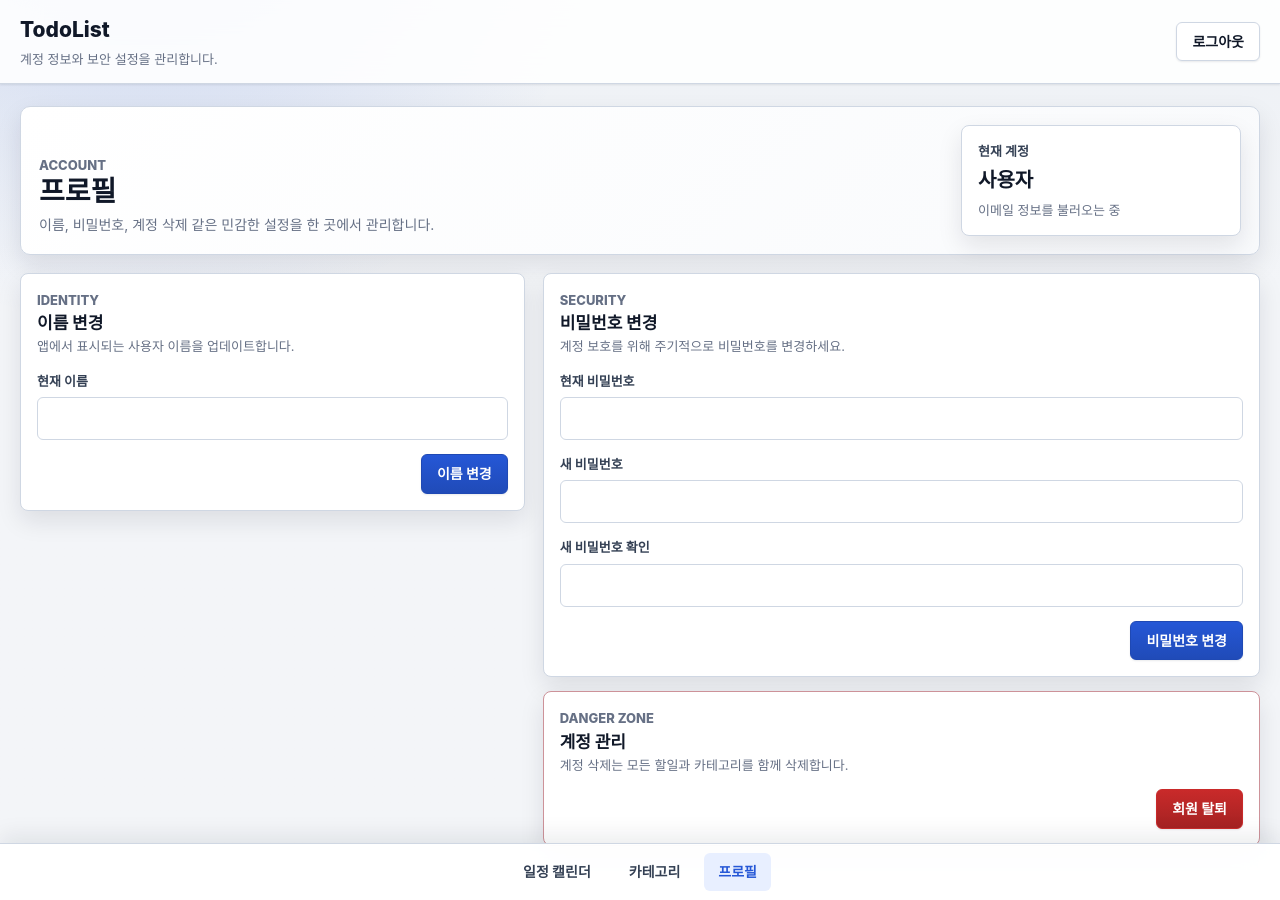
Test: ProfilePage — 비밀번호 변경 › 새 비밀번호 불일치 시 유효성 오류가 표시된다
Type "current123" into the password field labelled "현재 비밀번호" at (901,418), box [560, 397, 1243, 440]
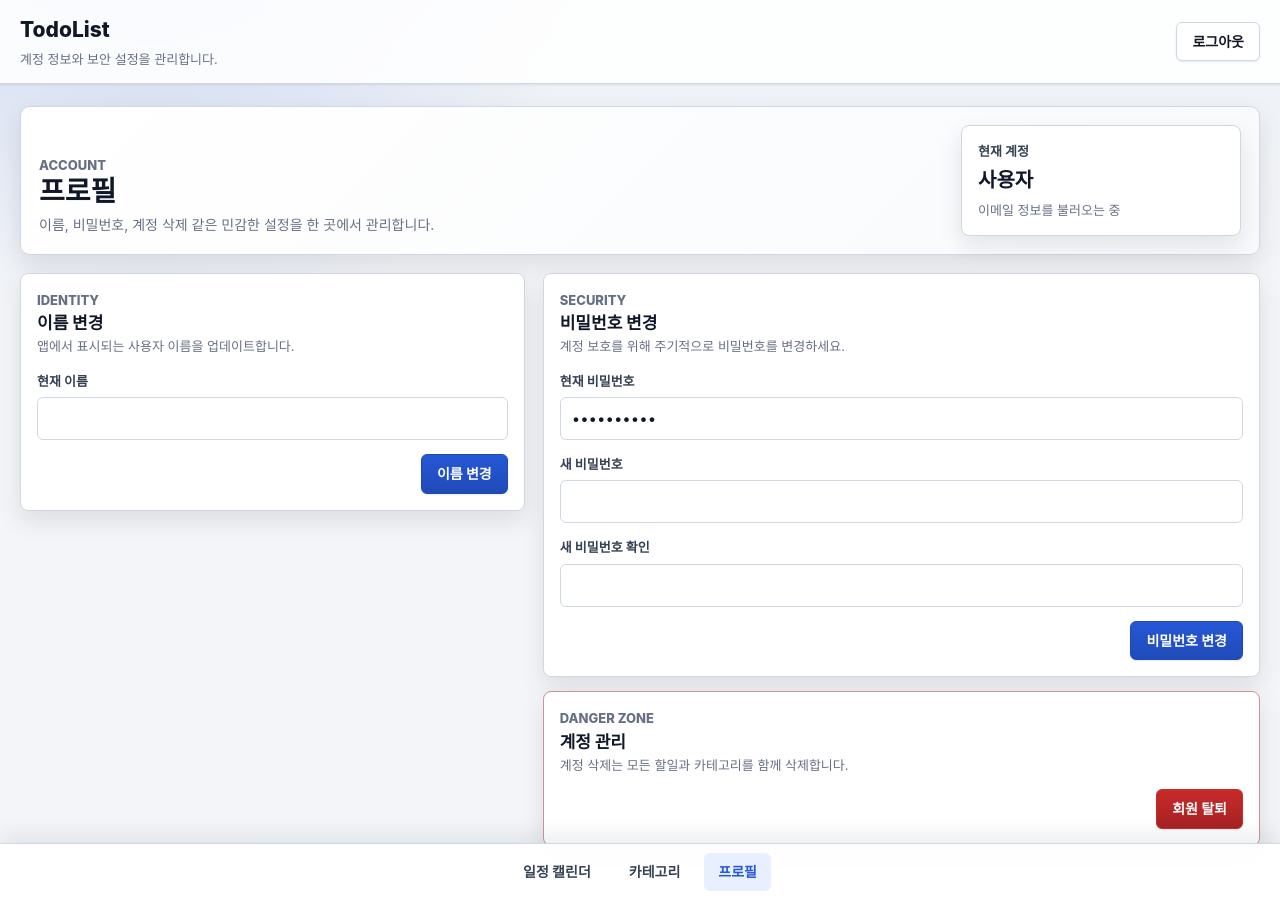
Type "newpass123" into the password field labelled "새 비밀번호" at (901,502), box [560, 480, 1243, 523]
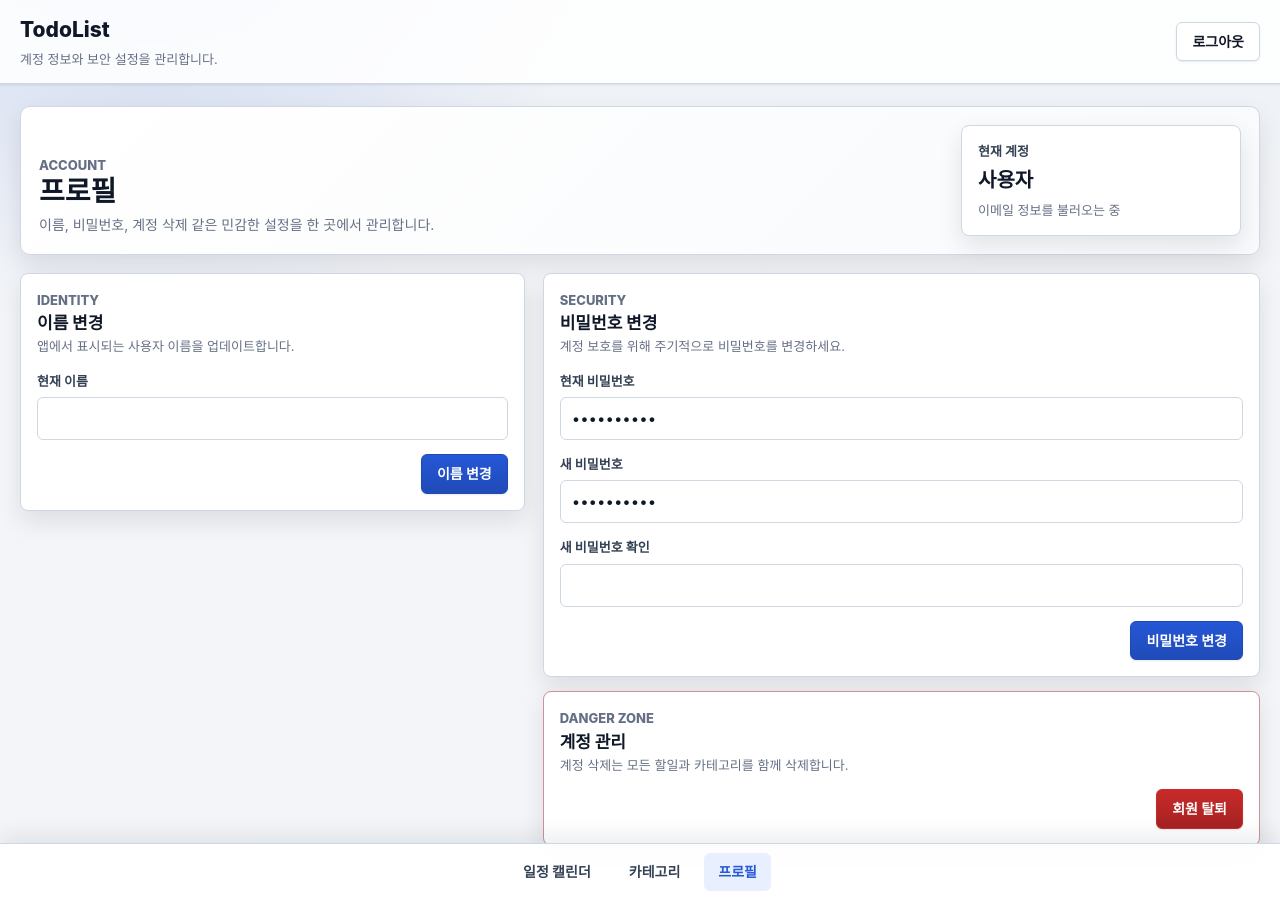
Type "different" into the password field labelled "새 비밀번호 확인" at (901,585), box [560, 564, 1243, 607]
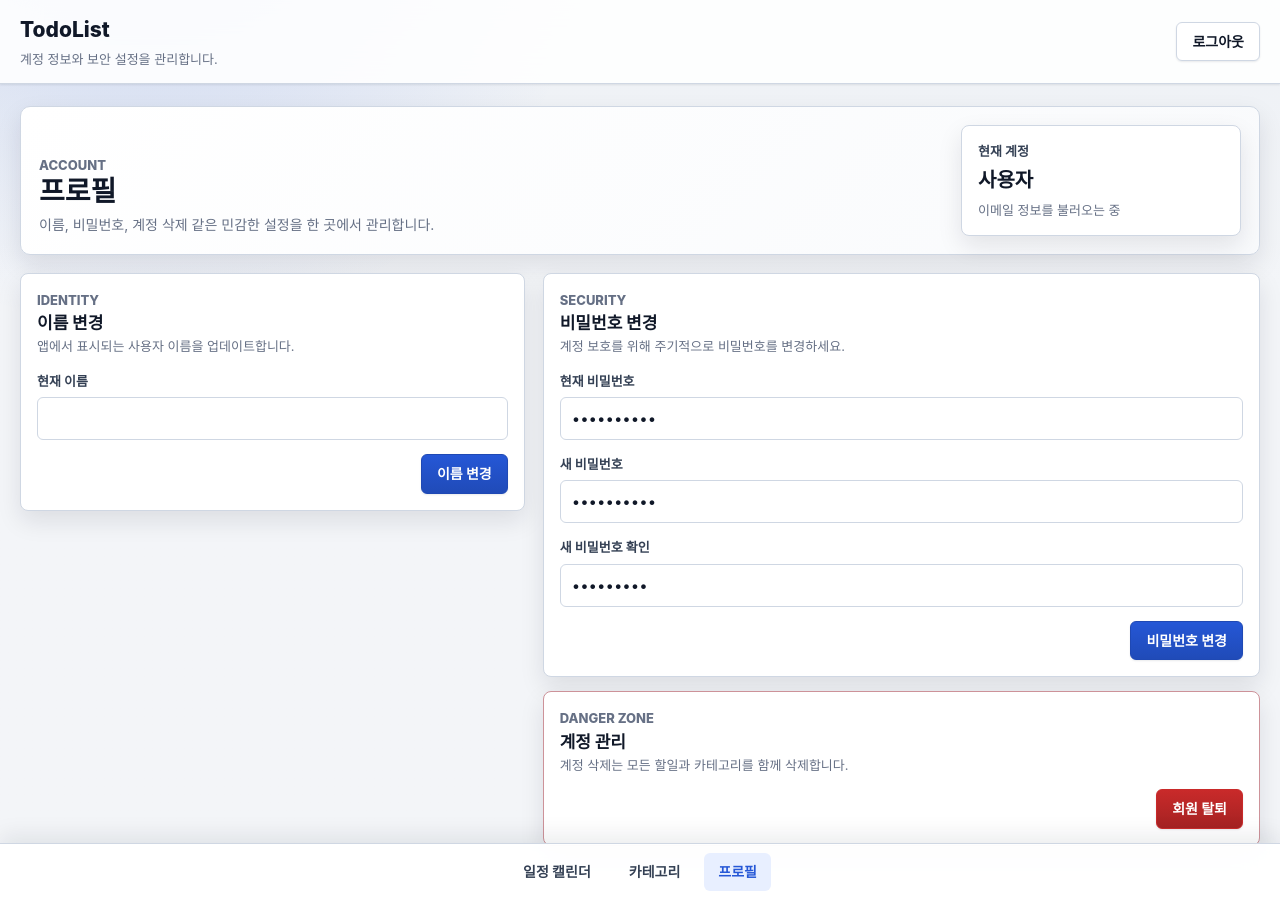
Click the button "비밀번호 변경" at (1187,641), box [1130, 621, 1243, 660]
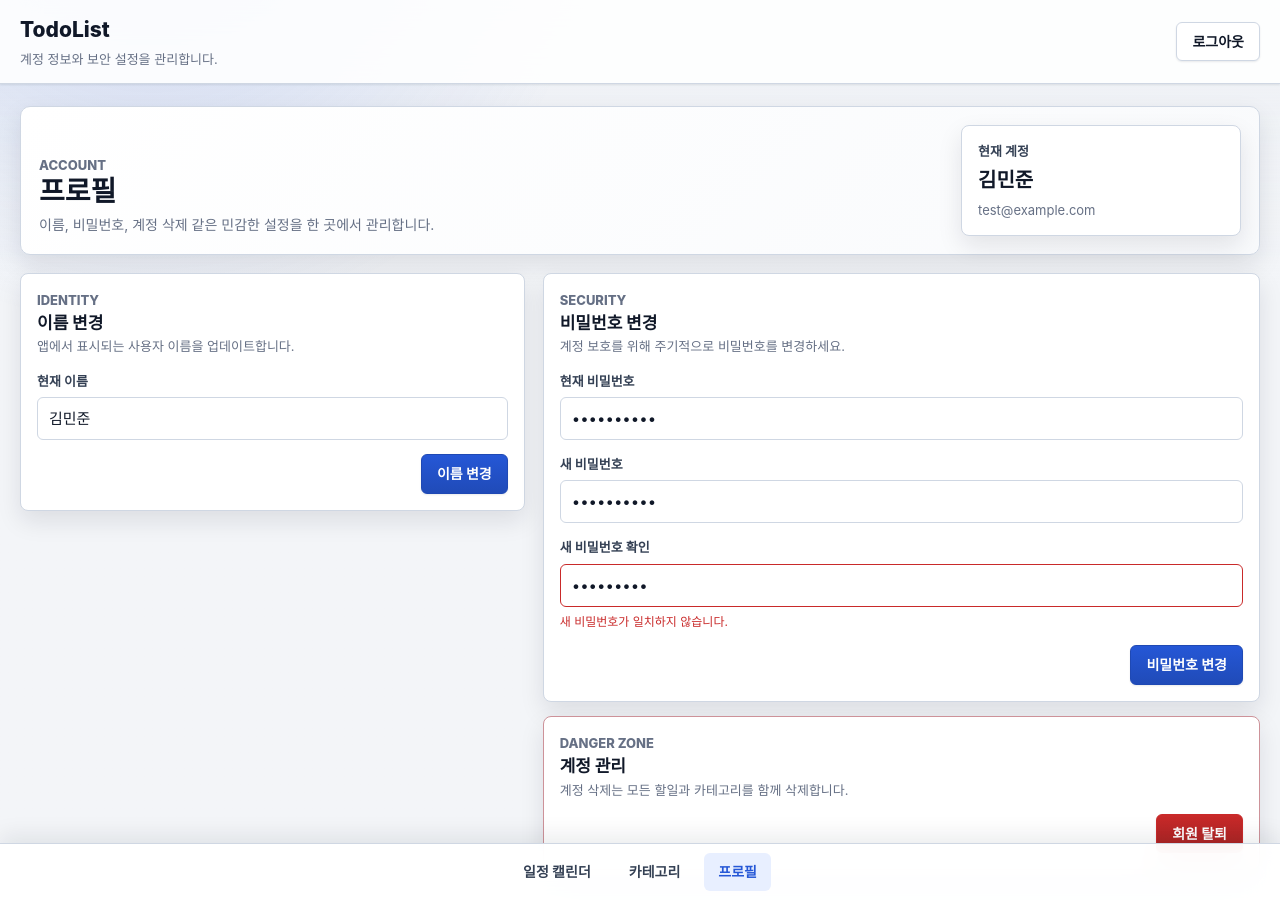
Check: the message reads "새 비밀번호가 일치하지 않습니다.", box [560, 614, 728, 629]
